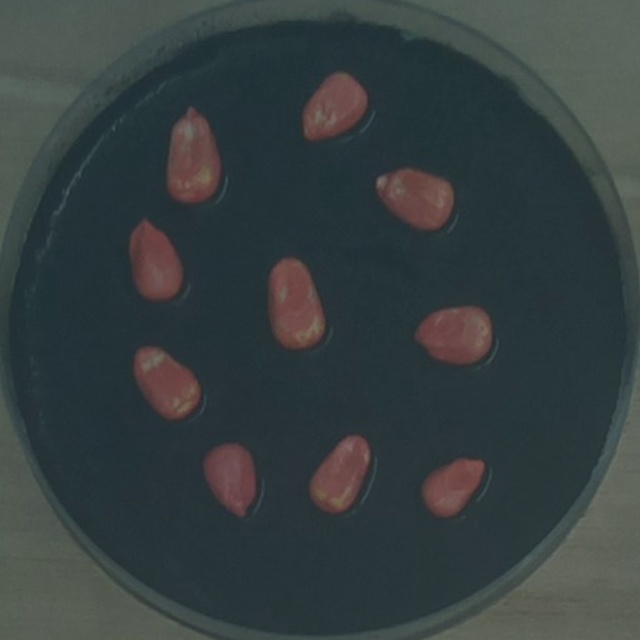Zea mays: (259, 250, 333, 356), (159, 97, 227, 209), (300, 426, 377, 523), (127, 338, 209, 429), (367, 160, 459, 238), (292, 66, 373, 150), (405, 299, 497, 372), (121, 211, 189, 309), (195, 435, 263, 523), (413, 448, 492, 523)
